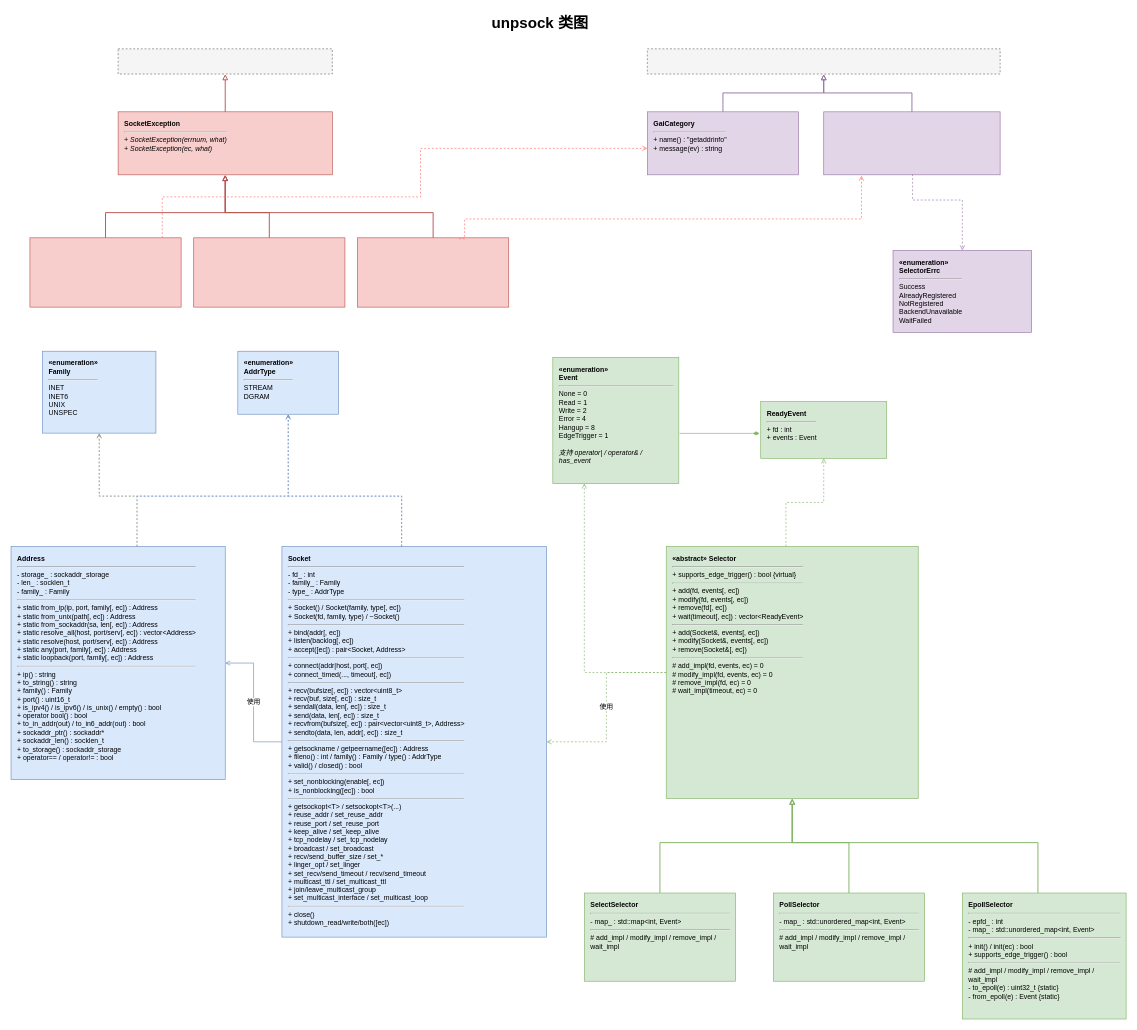
Some shapes in this 1137 by 1030 pixel diagram are drawn without their labels. Here are the shapes that lost their labels. From the top down, the centre of each, then its label:
point (224, 61): «external» std::system_error
point (823, 61): «external» std::error_category
point (911, 143): SelectorErrorCategory + name() : "Selector" + message(ev) : string
point (105, 272): AddressError + AddressError(what, gai_errnum) + AddressError(ec, what)
point (269, 272): SocketError + SocketError(what, errnum) + SocketError(ec, what)
point (433, 272): SelectorError + SelectorError(what, errnum) + SelectorError(ec, what)
